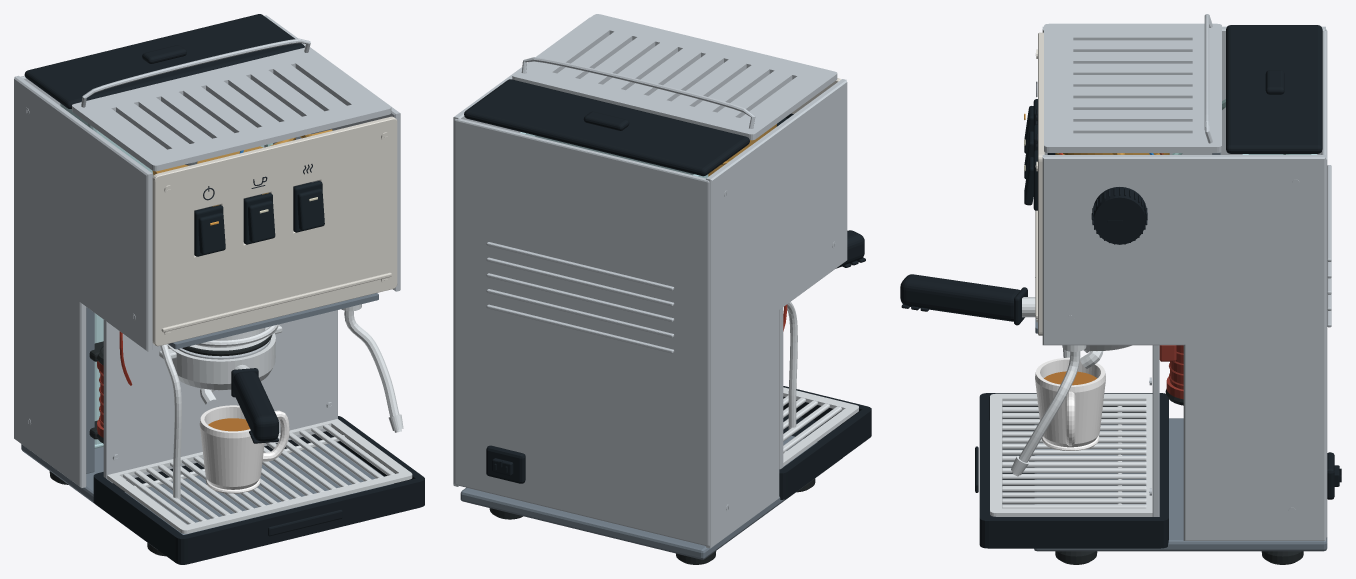
Rendered from espresso_machine.glb.
3 views of the same model, side by side, from view 1: azimuth 30°, elevation 25°; view 2: azimuth 150°, elevation 25°; view 3: azimuth 270°, elevation 25° (orthographic). The views are drawn at different scales.
Parts seen in each view (by area): view 1: outer_shell, front_panel, cup_warmer, brew_bay_panel, tray_grille, drip_tray, tank_lid, chassis, demitasse, control_switches, portafilter_body, portafilter_handle (+5 smaller); view 2: outer_shell, cup_warmer, tank_lid, chassis, drip_tray, tray_grille, power_inlet, drain_tube, brew_bay_panel, portafilter_handle, rubber_feet; view 3: outer_shell, cup_warmer, tray_grille, tank_lid, drip_tray, chassis, demitasse, portafilter_handle, steam_knob, front_panel, steam_wand, brew_bay_panel (+4 smaller).
Boxes of the visible parts, bbox=[...] form: outer_shell: bbox=[14, 15, 400, 487]; front_panel: bbox=[152, 116, 397, 346]; cup_warmer: bbox=[72, 38, 391, 171]; brew_bay_panel: bbox=[103, 310, 337, 483]; tray_grille: bbox=[107, 419, 412, 533]; drip_tray: bbox=[93, 416, 424, 564]; tank_lid: bbox=[24, 14, 304, 108]; chassis: bbox=[21, 136, 393, 549]; demitasse: bbox=[199, 405, 289, 493]; control_switches: bbox=[194, 164, 324, 256]; portafilter_body: bbox=[159, 325, 282, 404]; portafilter_handle: bbox=[231, 368, 278, 443]; outer_shell: bbox=[453, 17, 847, 548]; cup_warmer: bbox=[512, 14, 837, 140]; tank_lid: bbox=[464, 79, 749, 176]; chassis: bbox=[460, 435, 842, 559]; drip_tray: bbox=[779, 386, 871, 499]; tray_grille: bbox=[783, 387, 858, 466]; power_inlet: bbox=[486, 445, 525, 483]; drain_tube: bbox=[787, 302, 797, 429]; brew_bay_panel: bbox=[779, 307, 783, 469]; portafilter_handle: bbox=[836, 230, 865, 268]; rubber_feet: bbox=[489, 478, 815, 564]; outer_shell: bbox=[1042, 26, 1331, 540]; cup_warmer: bbox=[1044, 14, 1221, 152]; tray_grille: bbox=[990, 393, 1152, 516]; tank_lid: bbox=[1226, 25, 1322, 153]; drip_tray: bbox=[975, 393, 1168, 548]; chassis: bbox=[1034, 152, 1327, 551]; demitasse: bbox=[1035, 357, 1105, 450]; portafilter_handle: bbox=[900, 274, 1027, 325]; steam_knob: bbox=[1091, 187, 1147, 244]; front_panel: bbox=[1035, 32, 1044, 335]; steam_wand: bbox=[1011, 345, 1086, 476]; brew_bay_panel: bbox=[1149, 345, 1159, 516].
Size of the model in its own units: 1.79 by 2.6 by 2.33.
